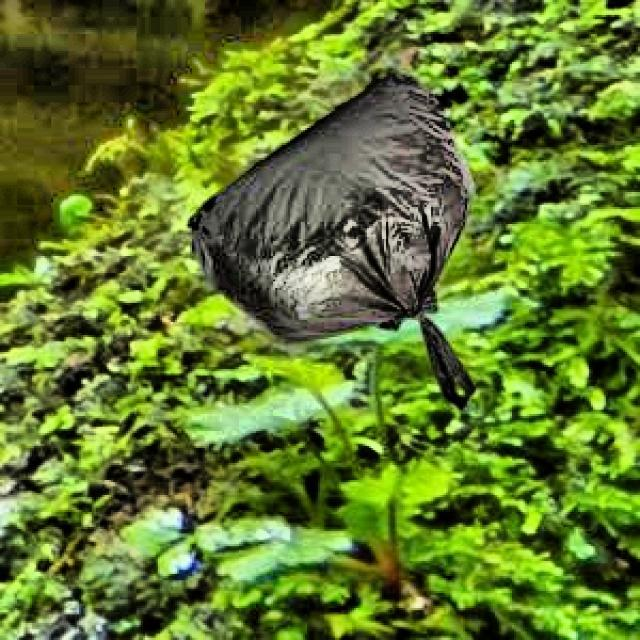Trashbag: (183, 86, 501, 418)
